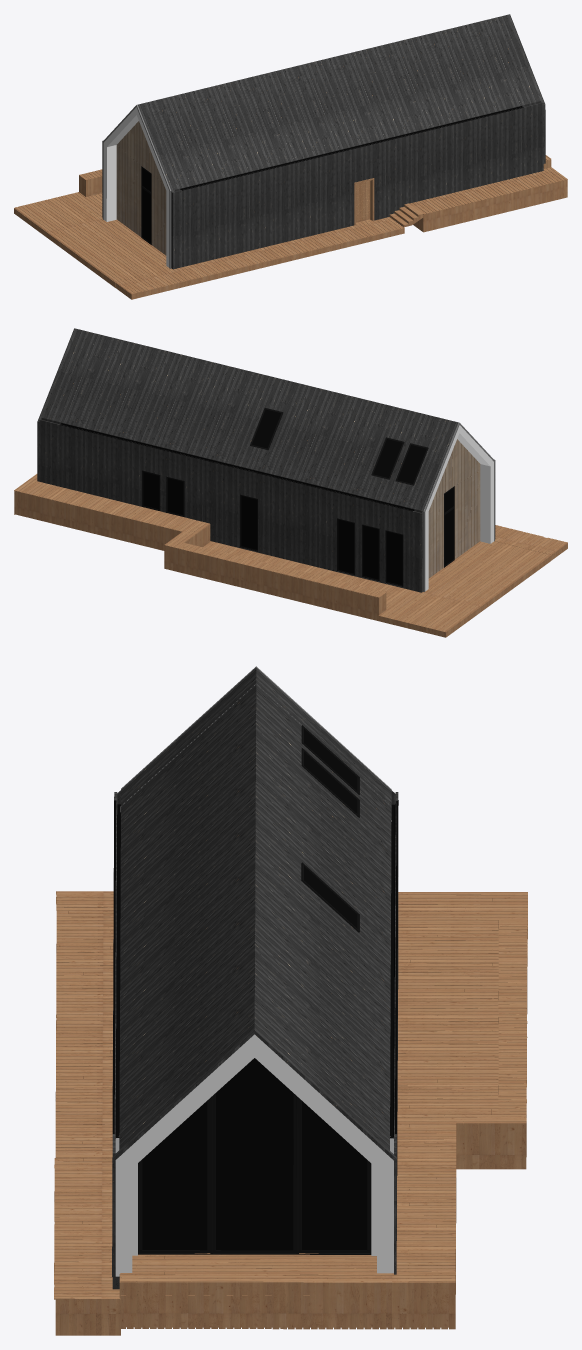
Rendered from dom_5.FBX.
3 renders of one model, top to bottom at view 1: azimuth 30°, elevation 25°; view 2: azimuth 150°, elevation 25°; view 3: azimuth 270°, elevation 25°, orthographic. The views are drawn at different scales.
Visible parts, largest first — view 1: House-A; view 2: House-A; view 3: House-A.
Boxes of the visible parts, x1,y1,x2,y2 form: House-A: (14,14,567,299); House-A: (14,328,567,637); House-A: (54,666,527,1335).
Size of the model in its own units: 2234 by 1051 by 728.
